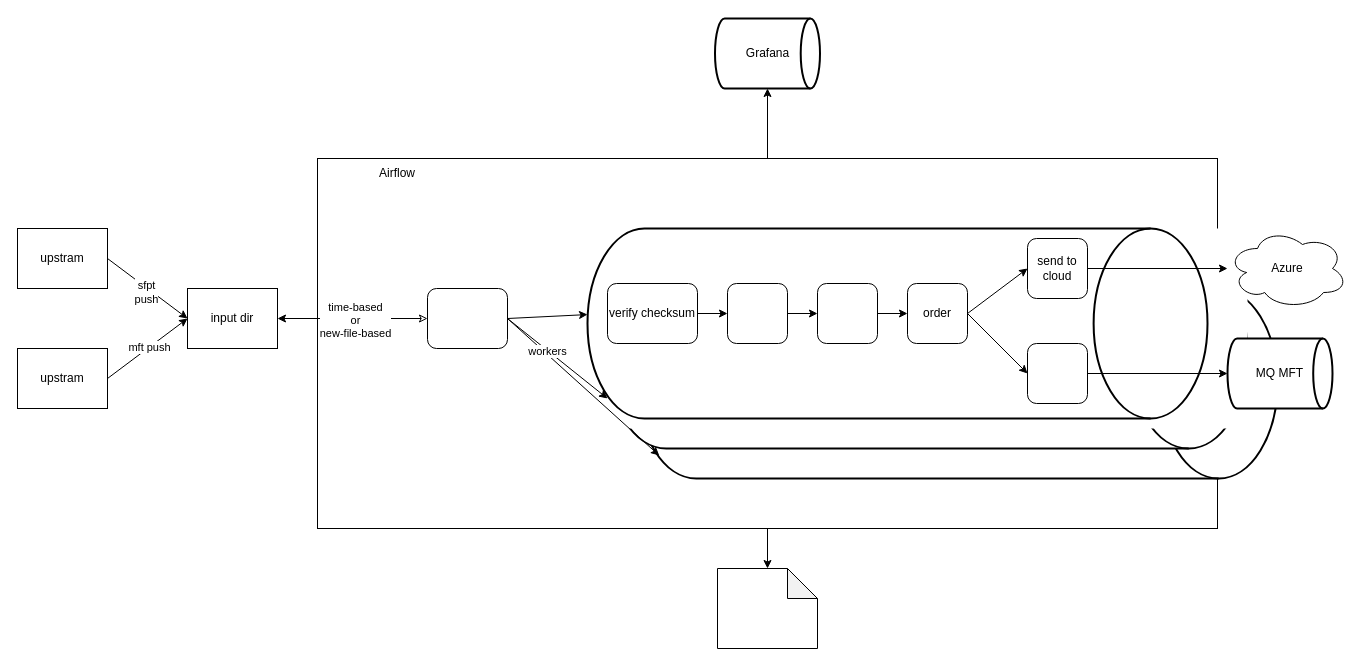
Image size: 1365x666. Some labels were removed from this diagram. Each missing label, with the box of its shape:
logs: (716, 568, 818, 648)
read file input: (426, 288, 508, 348)
send with mft: (1026, 342, 1088, 404)
unpack: (726, 282, 788, 344)
verify content: (816, 282, 878, 344)
